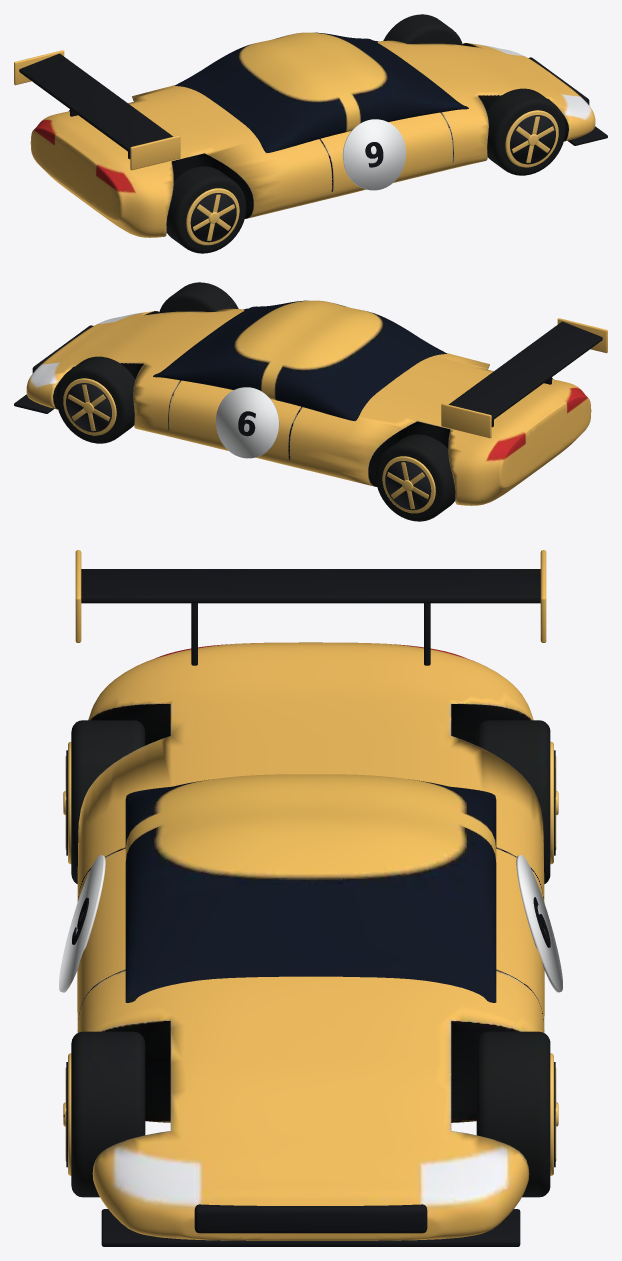
The model's file is car-3.glb.
The picture shows the model from 3 angles, top to bottom: view 1: azimuth 30°, elevation 25°; view 2: azimuth 150°, elevation 25°; view 3: azimuth 270°, elevation 25°; orthographic projection. The views are drawn at different scales.
Parts seen in each view (by area): view 1: car-3; view 2: car-3; view 3: car-3.
Part boxes in pixels (<box>): car-3: <box>14,14,607,253</box>; car-3: <box>14,282,607,521</box>; car-3: <box>59,550,562,1246</box>.
Bounding box in the file's own units: 4.9 × 1.2 × 2.19.
13 materials, 13 textured.
